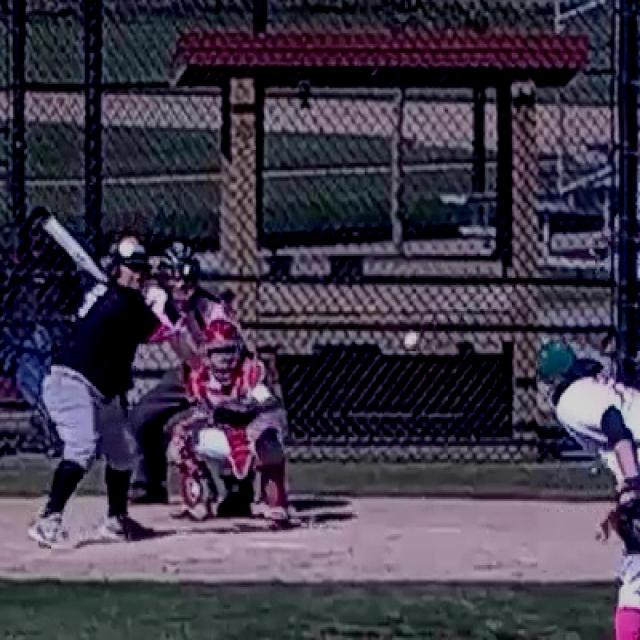baseball: (404, 333, 416, 348)
